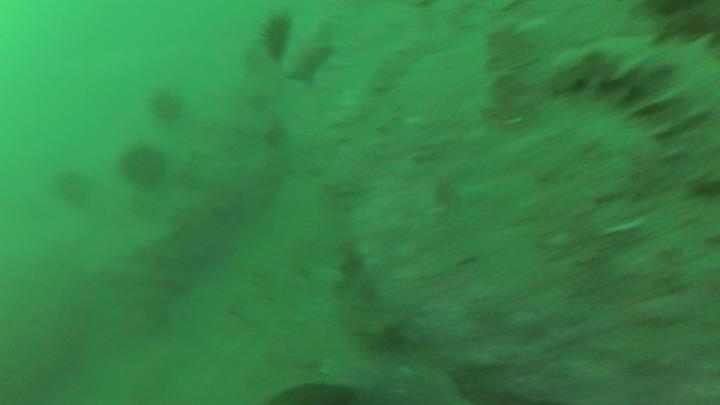echinus: (249, 9, 294, 64), (117, 140, 165, 189), (56, 168, 93, 211), (148, 84, 184, 128)
holothurian: (549, 34, 701, 159)
starfish: (284, 15, 335, 86)
